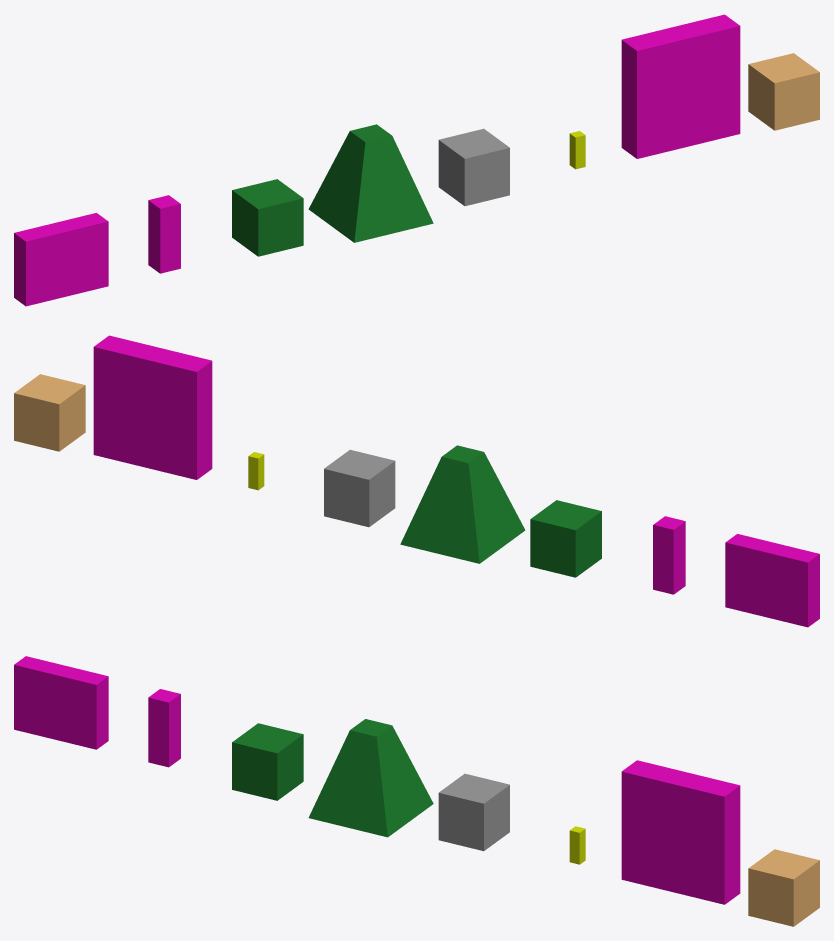
Rendered from Furniture.glb.
The picture shows the model from 3 angles, top to bottom: view 1: azimuth 30°, elevation 25°; view 2: azimuth 150°, elevation 25°; view 3: azimuth 330°, elevation 25°; orthographic projection.
Visible parts, largest first — view 1: Door, Tree, Fence, Bush, Chest, Rock, Post, Flower; view 2: Door, Tree, Fence, Bush, Chest, Rock, Post, Flower; view 3: Door, Tree, Fence, Bush, Rock, Chest, Post, Flower.
Part boxes in pixels (bbox=[...]): Door: bbox=[621, 14, 740, 158]; Tree: bbox=[308, 124, 433, 242]; Fence: bbox=[14, 213, 108, 306]; Bush: bbox=[232, 179, 303, 256]; Chest: bbox=[748, 53, 819, 130]; Rock: bbox=[438, 128, 509, 206]; Post: bbox=[148, 195, 180, 273]; Flower: bbox=[569, 131, 585, 169]; Door: bbox=[93, 335, 212, 479]; Tree: bbox=[400, 445, 525, 563]; Fence: bbox=[725, 534, 819, 627]; Bush: bbox=[530, 500, 601, 577]; Chest: bbox=[14, 374, 85, 451]; Rock: bbox=[324, 449, 395, 527]; Post: bbox=[653, 516, 685, 594]; Flower: bbox=[248, 452, 264, 490]; Door: bbox=[621, 760, 740, 904]; Tree: bbox=[308, 719, 433, 837]; Fence: bbox=[14, 656, 108, 749]; Bush: bbox=[232, 723, 303, 800]; Rock: bbox=[438, 773, 509, 851]; Chest: bbox=[748, 849, 819, 926]; Post: bbox=[148, 689, 180, 767]; Flower: bbox=[569, 826, 585, 864].
Size of the model in its own units: 7.62 by 1 by 0.7693.
